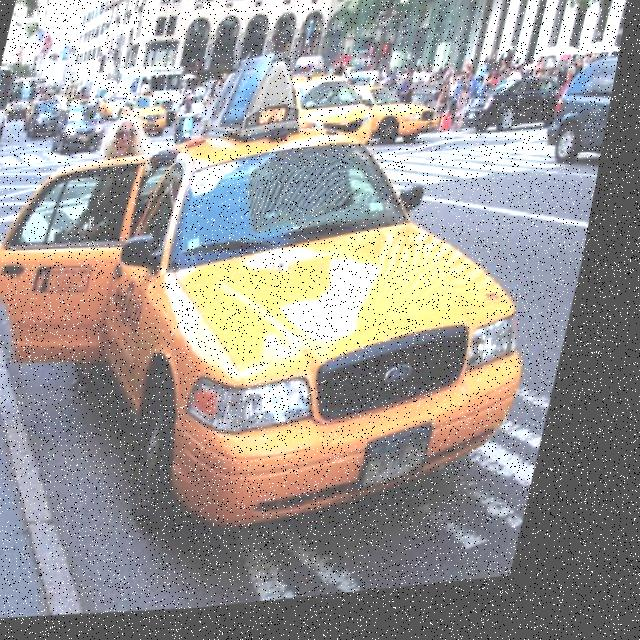license_plate: (376, 428, 454, 505), (86, 138, 96, 148)
